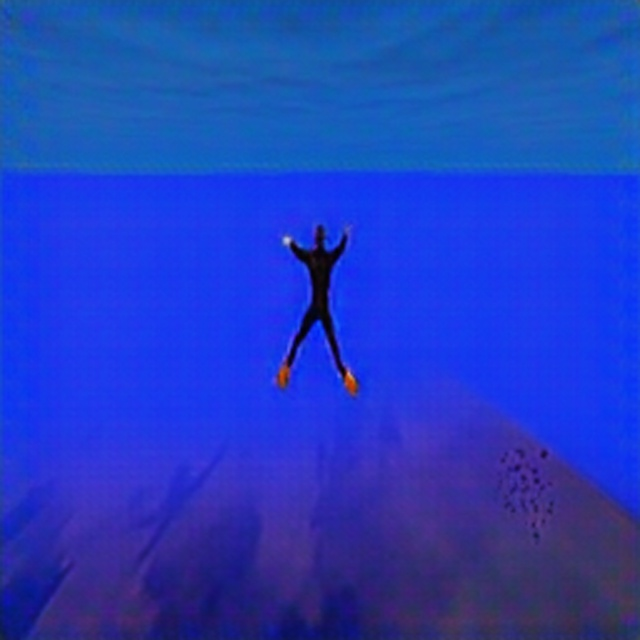diver: (274, 218, 360, 399)
